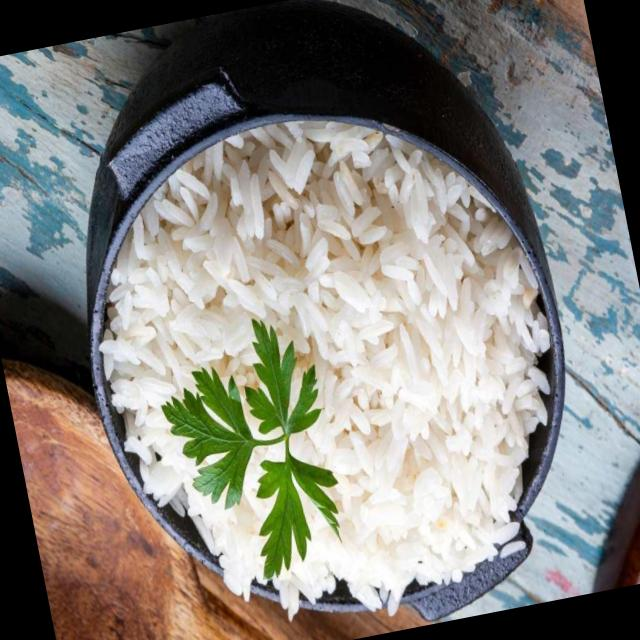rice: (103, 130, 550, 603)
